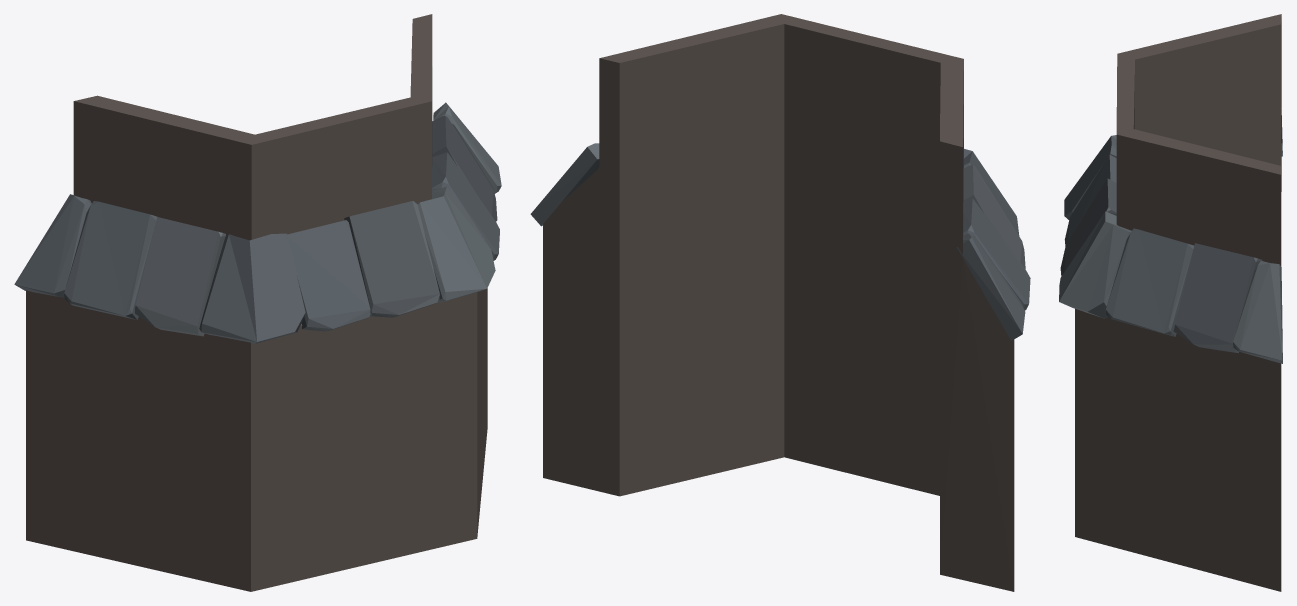
The model's file is MCastle_SmallTurret_01.FBX.
The picture shows the model from 3 angles, left to right: view 1: azimuth 30°, elevation 25°; view 2: azimuth 150°, elevation 25°; view 3: azimuth 270°, elevation 25°; orthographic projection. The views are drawn at different scales.
Parts seen in each view (by area): view 1: MCastle_SmallTurret_01_LOD0; view 2: MCastle_SmallTurret_01_LOD0; view 3: MCastle_SmallTurret_01_LOD0.
Part boxes in pixels (x1,y1,x2,y2): MCastle_SmallTurret_01_LOD0: (14,14,501,591); MCastle_SmallTurret_01_LOD0: (530,14,1030,591); MCastle_SmallTurret_01_LOD0: (1059,14,1282,591).
Size of what is drawn, in the model's own units: 5.35 by 4.5 by 2.33.
